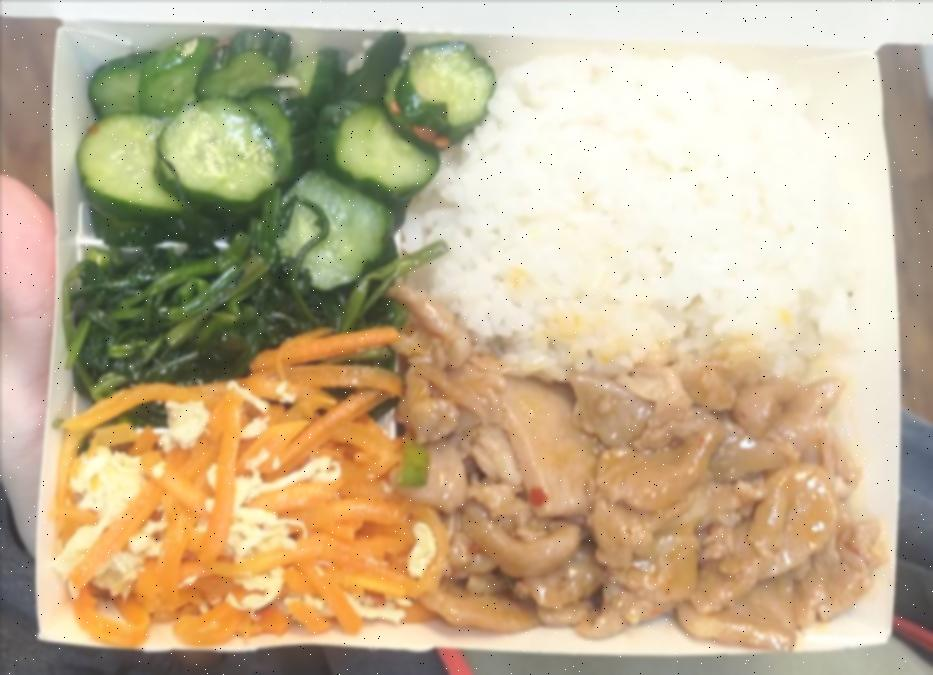big grilled chicken leg: (25, 19, 921, 661)
big herbal chicken leg: (419, 50, 857, 365)
braised fish fillet: (51, 332, 412, 644), (71, 31, 503, 284), (54, 234, 416, 416)
braised pork: (419, 339, 879, 642)
